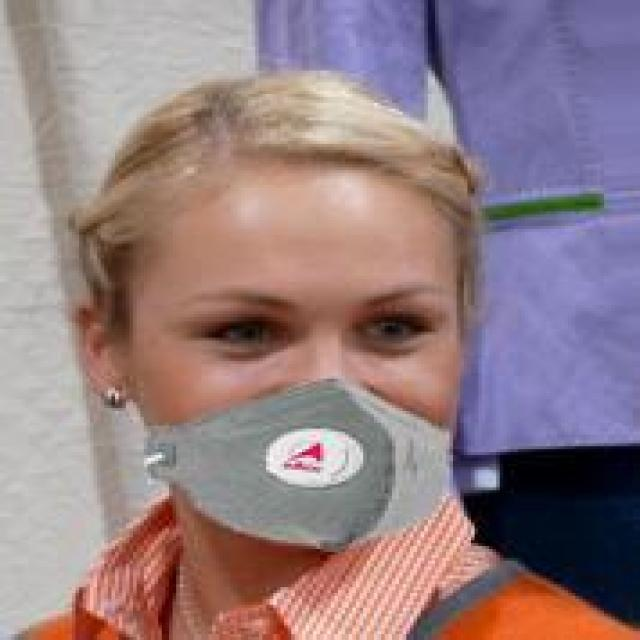mask: (86, 62, 532, 552)
